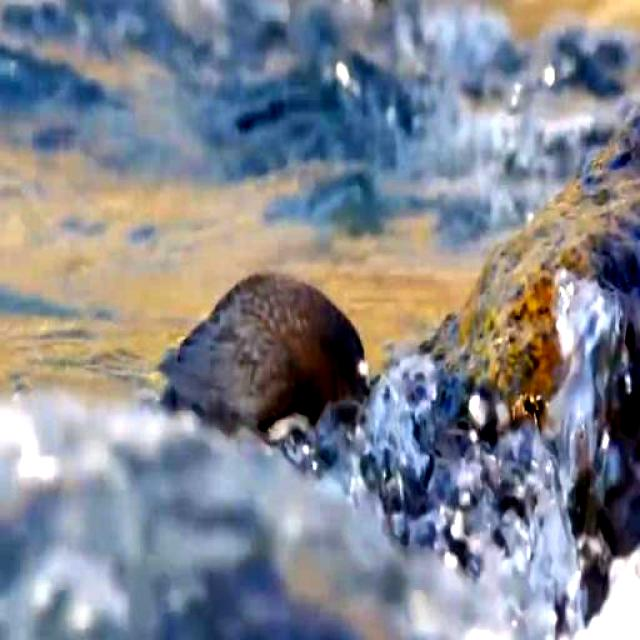airplane: (144, 235, 420, 504)
